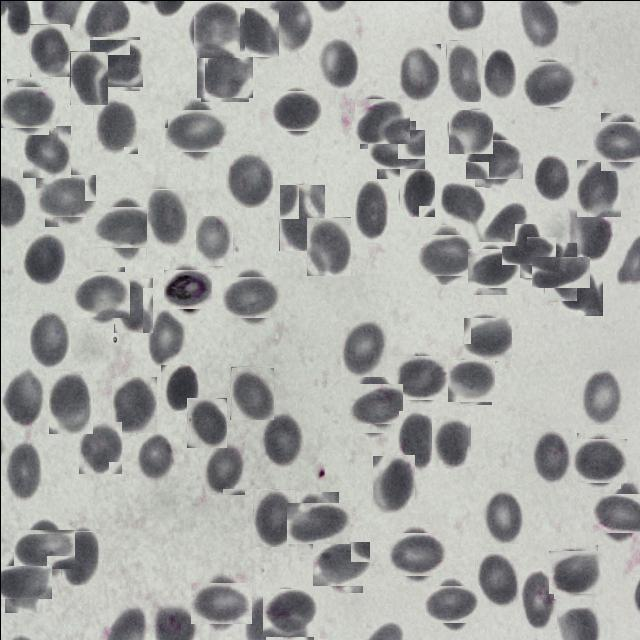red blood cell: (278, 183, 324, 250), (99, 200, 152, 253), (48, 370, 92, 433), (389, 528, 442, 580), (170, 104, 223, 156), (110, 375, 156, 434), (39, 170, 91, 222), (292, 496, 344, 548), (198, 47, 250, 99), (263, 586, 315, 638), (225, 150, 272, 207), (305, 216, 350, 275), (314, 538, 366, 589), (196, 576, 247, 628), (190, 4, 242, 55), (340, 319, 386, 376), (92, 96, 137, 153), (422, 229, 472, 280), (357, 96, 408, 146), (19, 524, 70, 574), (76, 269, 126, 320), (397, 43, 440, 102), (28, 308, 70, 368), (576, 159, 620, 216), (573, 435, 623, 485), (524, 58, 574, 108), (226, 272, 276, 322), (90, 38, 140, 88), (550, 546, 600, 596), (22, 125, 70, 177), (371, 454, 414, 512), (474, 550, 518, 606), (145, 188, 186, 248), (2, 81, 52, 130), (228, 7, 278, 56), (252, 488, 294, 546), (2, 368, 44, 426), (469, 134, 518, 183), (396, 352, 444, 402), (579, 367, 621, 424), (230, 366, 274, 420), (22, 231, 65, 286), (2, 440, 42, 499), (350, 379, 398, 428), (371, 125, 420, 173), (77, 420, 121, 473), (316, 34, 358, 89), (427, 580, 475, 628), (352, 180, 389, 242), (398, 410, 436, 470), (482, 488, 522, 544), (146, 309, 186, 365), (262, 411, 302, 467), (520, 567, 556, 629), (203, 440, 244, 494), (438, 182, 484, 230), (595, 116, 640, 165), (558, 265, 602, 315), (28, 23, 69, 76), (445, 40, 480, 102), (596, 488, 640, 537), (113, 277, 152, 332), (470, 244, 516, 290), (0, 557, 44, 605), (532, 428, 570, 483), (464, 316, 509, 362), (569, 209, 611, 258), (69, 50, 107, 104), (432, 415, 472, 466), (274, 88, 318, 134), (186, 397, 226, 447), (60, 530, 97, 584), (538, 249, 582, 294), (194, 214, 232, 265), (448, 109, 492, 153), (448, 358, 492, 402), (135, 432, 174, 481), (480, 44, 515, 98), (533, 151, 570, 202), (398, 166, 434, 216), (508, 229, 550, 271), (160, 364, 198, 410), (483, 205, 526, 245)
trophozoite: (164, 266, 208, 310)
